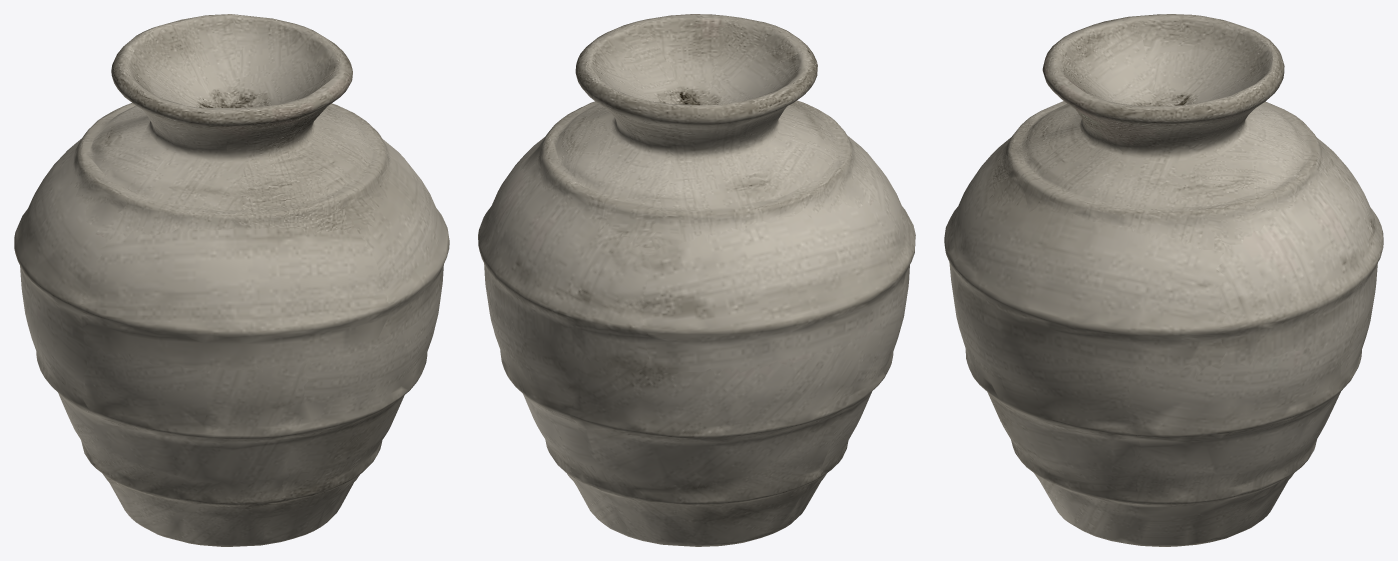
Rendered from clay-vase.lod1.glb.
The picture shows the model from 3 angles, left to right: view 1: azimuth 30°, elevation 25°; view 2: azimuth 150°, elevation 25°; view 3: azimuth 270°, elevation 25°; orthographic projection.
Parts seen in each view (by area): view 1: tripo_node_82a9cff4-524a-489b-9137-df30fb93ca62; view 2: tripo_node_82a9cff4-524a-489b-9137-df30fb93ca62; view 3: tripo_node_82a9cff4-524a-489b-9137-df30fb93ca62.
Boxes of the visible parts, bbox=[...] form: tripo_node_82a9cff4-524a-489b-9137-df30fb93ca62: bbox=[14, 14, 449, 546]; tripo_node_82a9cff4-524a-489b-9137-df30fb93ca62: bbox=[478, 14, 915, 546]; tripo_node_82a9cff4-524a-489b-9137-df30fb93ca62: bbox=[944, 14, 1383, 546].
Size of the model in its own units: 0.3578 by 0.3999 by 0.3584.
1 material, 1 textured.
